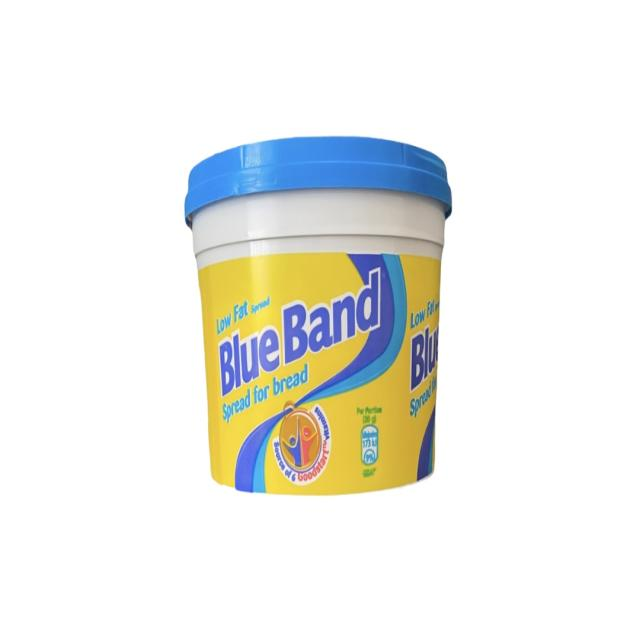butter: (184, 134, 452, 496)
